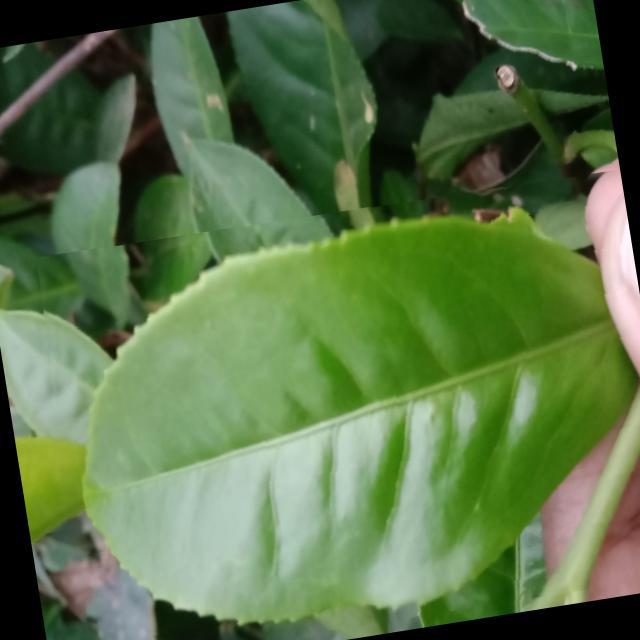Category C(4-7 days): (27, 164, 640, 640)
